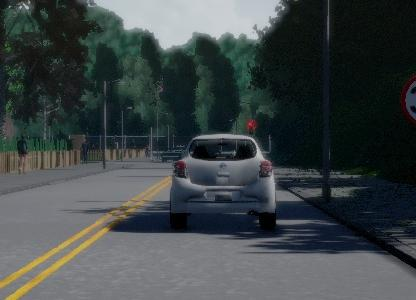Speed_30: (399, 72, 416, 129)
